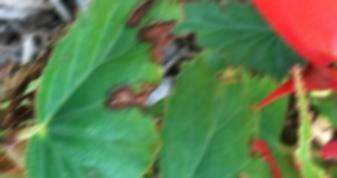Tomato leaf bacterial spot: (14, 0, 198, 178)
